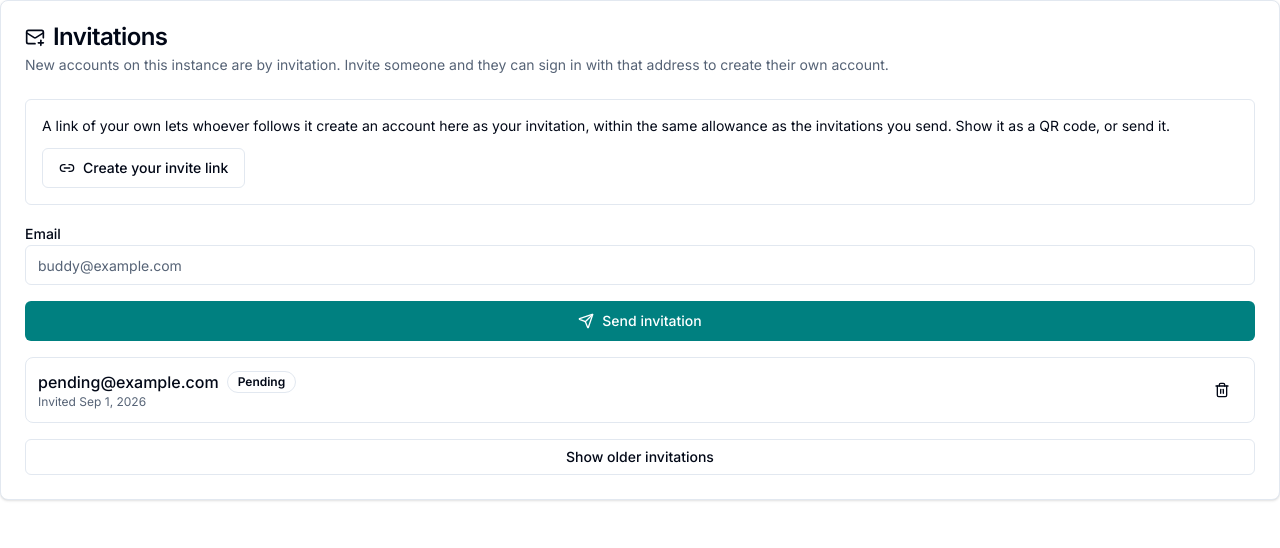
Test: InvitationsCard › appends the next page rather than replacing what is on screen
Expected: the text "pending@example.com" is shown, 38,370 -> 219,394
Click the button "Show older invitations".
click(640, 457)  # box 25,439 -> 1255,475
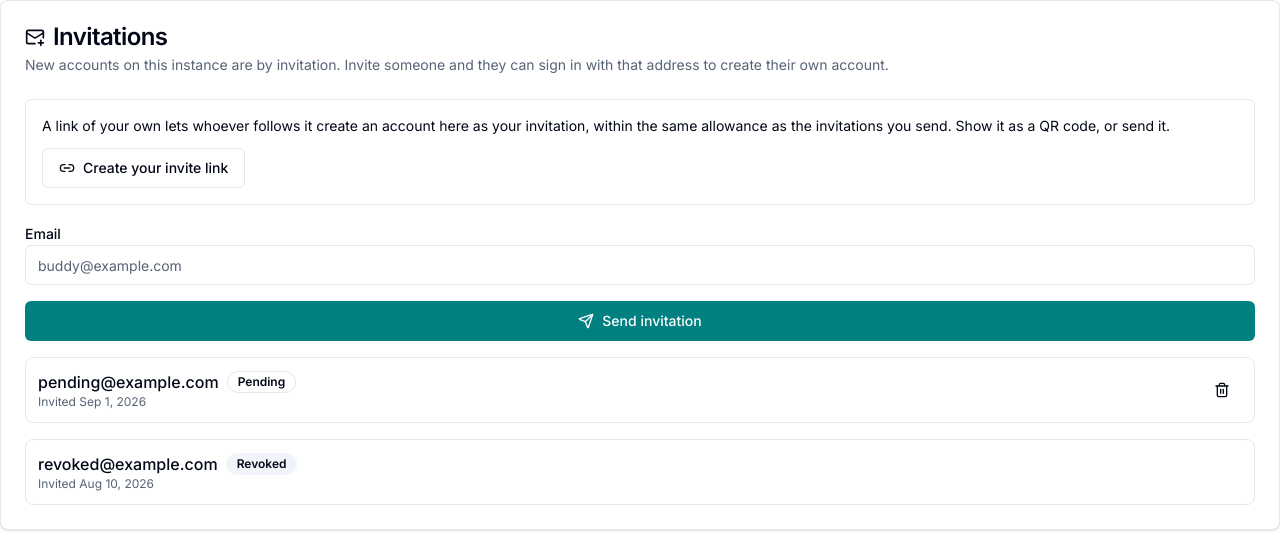
Expected: the text "pending@example.com" is shown, 38,370 -> 219,394
Result: the text "revoked@example.com" is shown at 38,452 -> 218,476
Result: the text "Show older invitations" is gone
